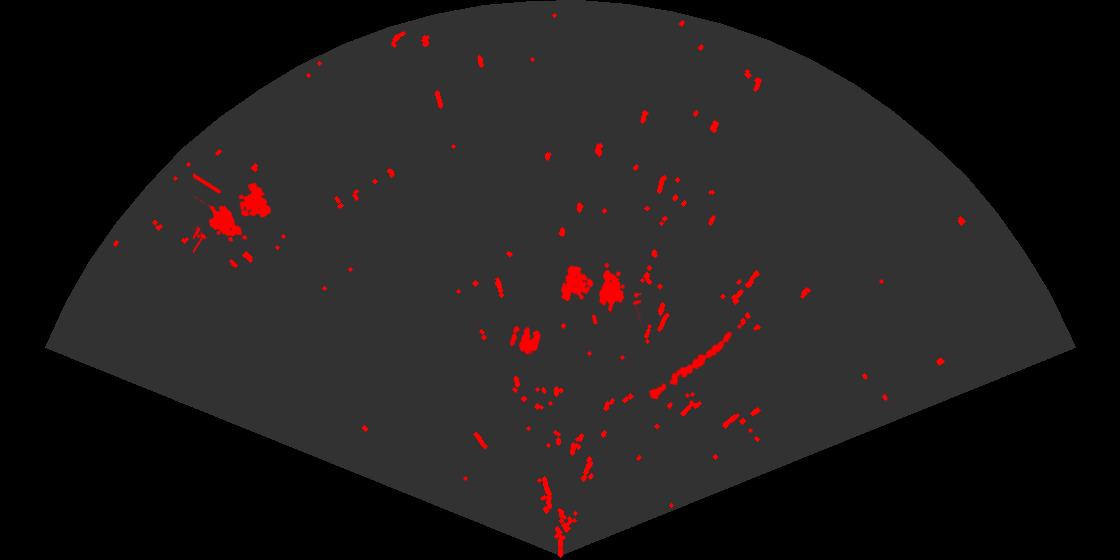ball: (508, 324, 543, 357)
cage: (193, 172, 273, 255), (559, 261, 641, 324)
chain: (647, 330, 734, 401)
